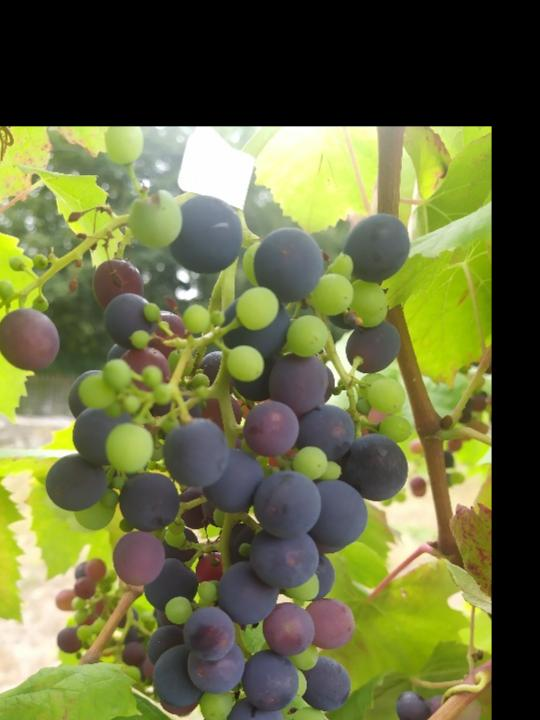grape: (0, 133, 410, 720)
